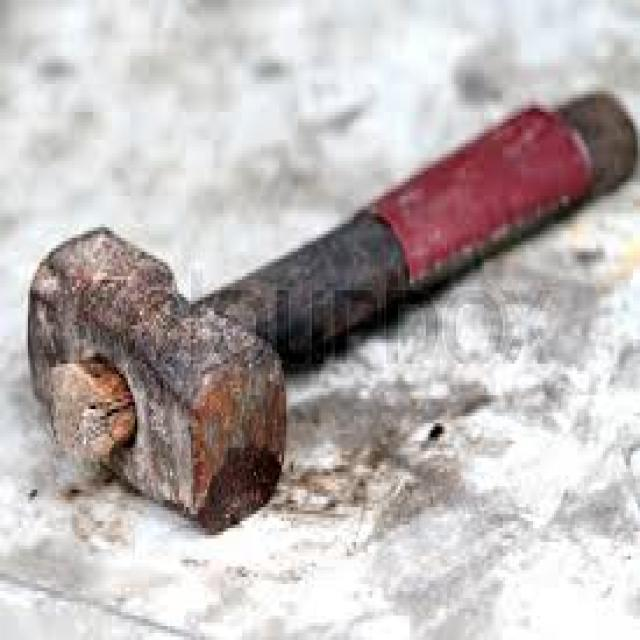hammer: (21, 77, 640, 542)
